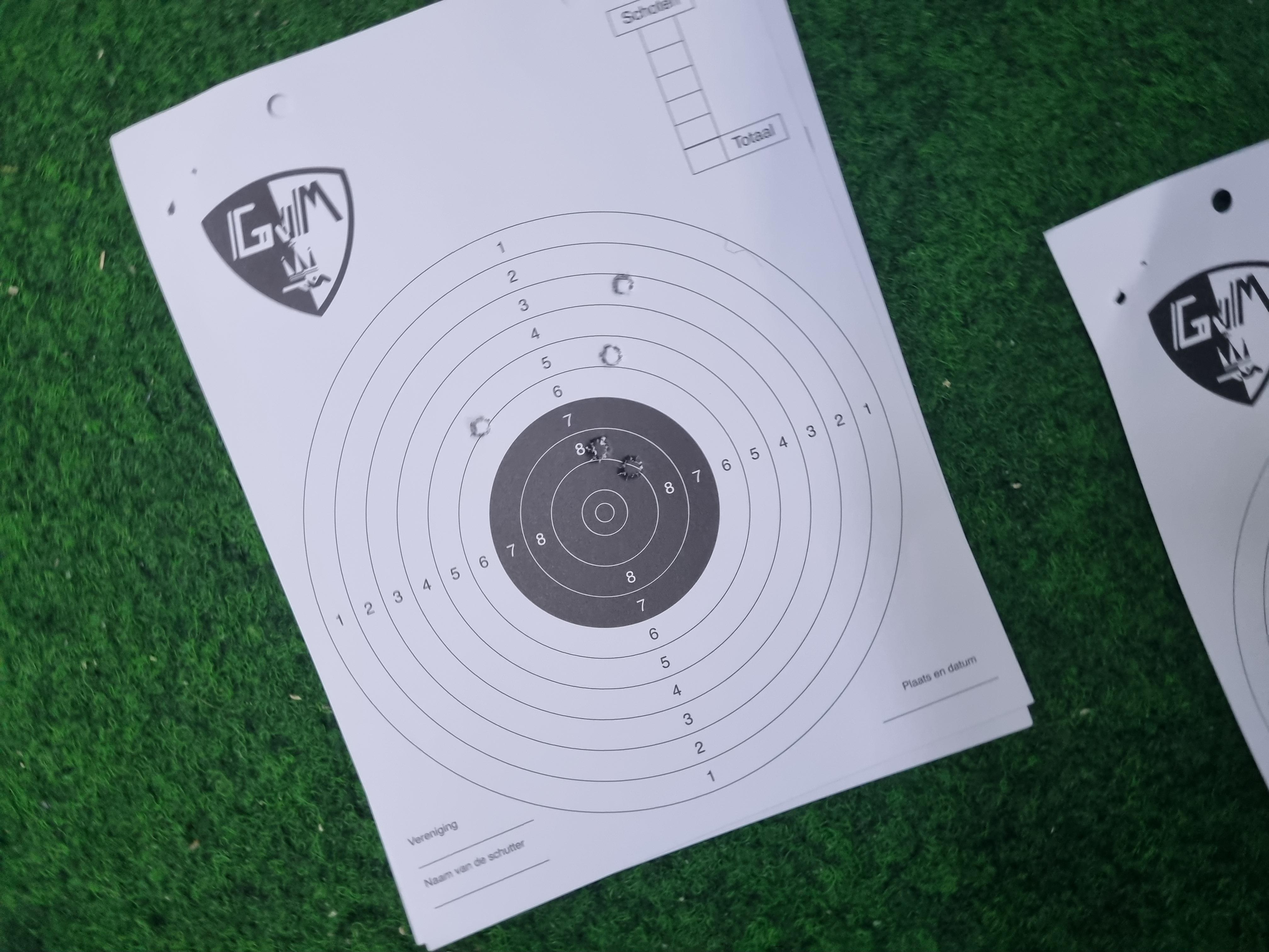hole: (650, 440, 688, 458), (628, 464, 662, 483), (780, 449, 809, 467), (875, 458, 904, 475), (686, 353, 713, 368)
